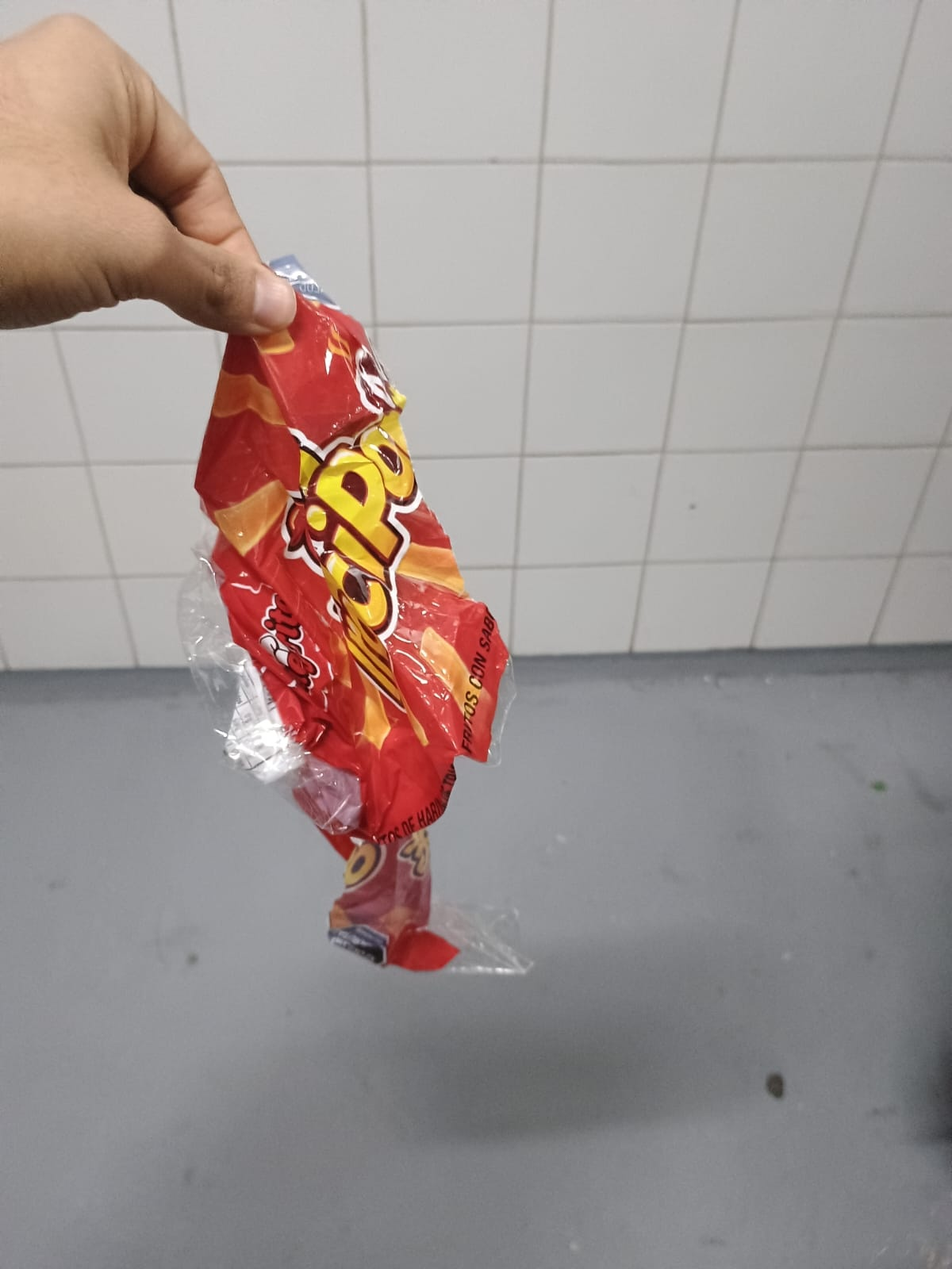Ordinario: (177, 257, 533, 979)
